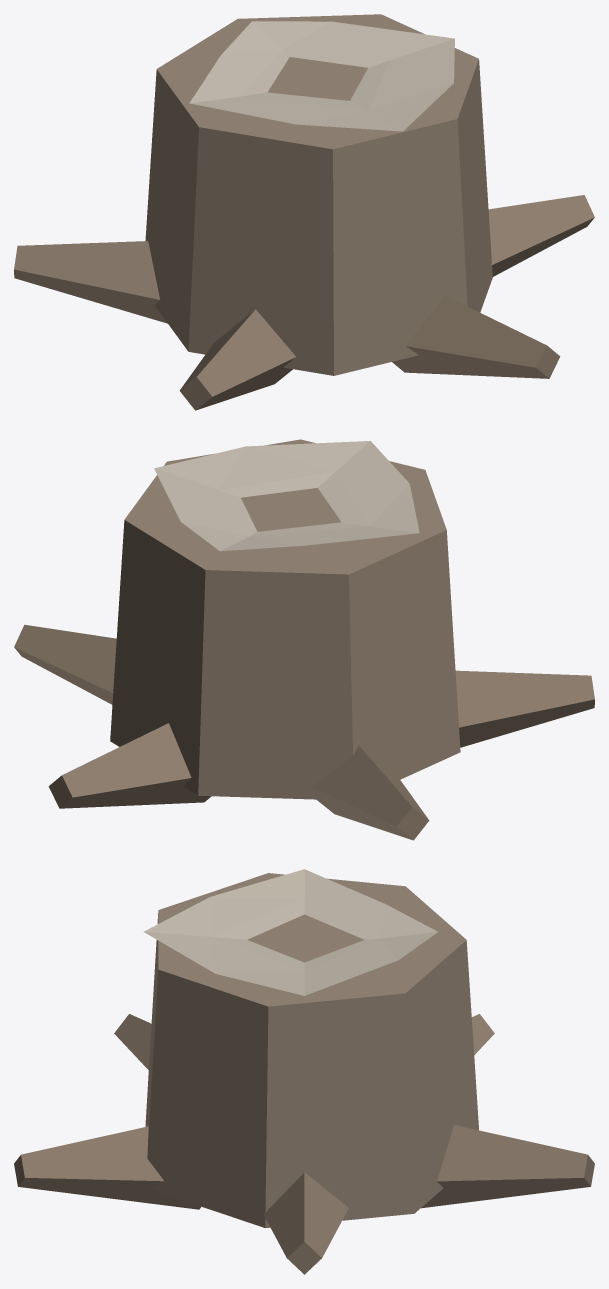
The model's file is stump_v23.glb.
3 views of the same model, one above another, from view 1: azimuth 30°, elevation 25°; view 2: azimuth 150°, elevation 25°; view 3: azimuth 270°, elevation 25° (orthographic). The views are drawn at different scales.
Parts seen in each view (by area): view 1: lod0; view 2: lod0; view 3: lod0.
Boxes of the visible parts, bbox=[...] form: lod0: bbox=[14, 14, 594, 410]; lod0: bbox=[14, 439, 594, 840]; lod0: bbox=[14, 869, 594, 1274].
Size of what is drawn, in the model's own units: 1.26 by 0.6889 by 1.32.
